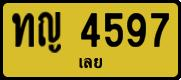letters: (37, 11, 62, 54), (10, 11, 36, 48), (79, 11, 101, 48), (126, 10, 147, 48), (103, 11, 124, 48), (150, 12, 170, 48)
province: (78, 56, 104, 69)
